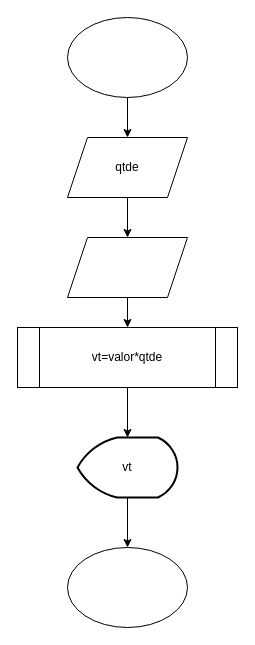
Image size: 255x645. Some labels were removed from this diagram. Each missing label, with the box of its shape:
inicio: (66, 16, 188, 98)
valor: (66, 236, 188, 298)
